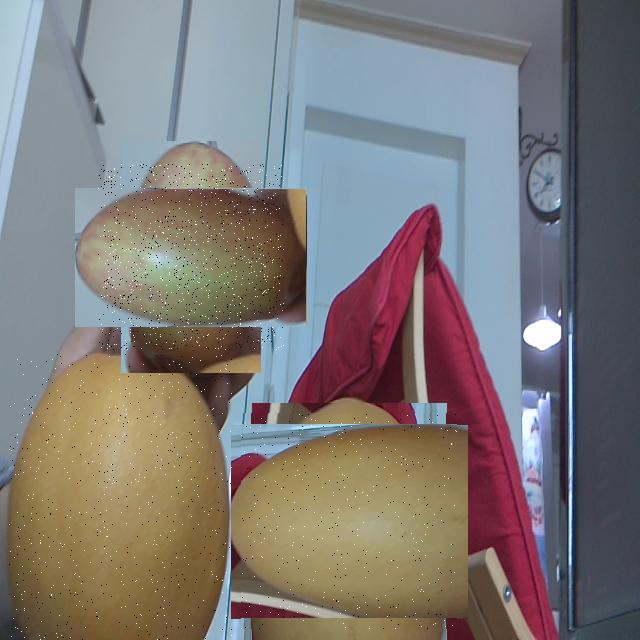apple: (98, 164, 284, 350)
pear: (9, 354, 232, 640), (242, 413, 458, 630)
